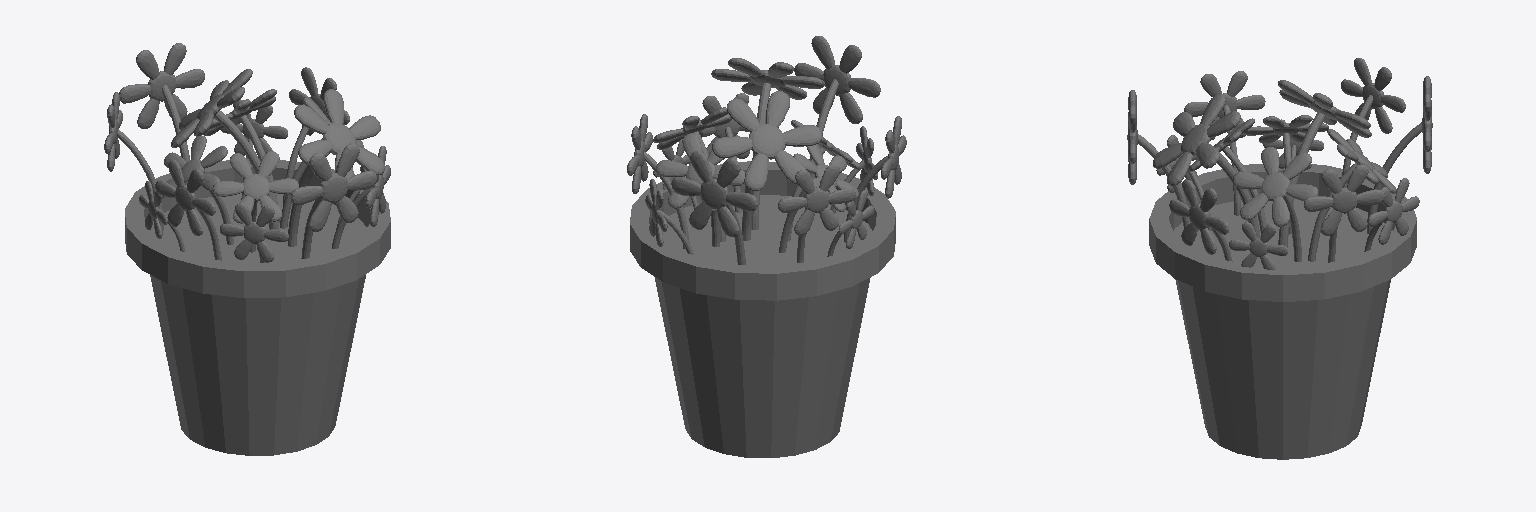
File: Gamla1.obj
The picture shows the model from 3 angles: view 1: azimuth 30°, elevation 25°; view 2: azimuth 150°, elevation 25°; view 3: azimuth 270°, elevation 25°; orthographic projection.
Visible parts, largest first — view 1: polySurface1367; view 2: polySurface1367; view 3: polySurface1367.
Part boxes in pixels (left/top/right/bottom): polySurface1367: left=104, top=43, right=390, bottom=455; polySurface1367: left=627, top=36, right=906, bottom=457; polySurface1367: left=1127, top=58, right=1432, bottom=459.
Size of the model in its own units: 72.74 by 98.52 by 80.52.